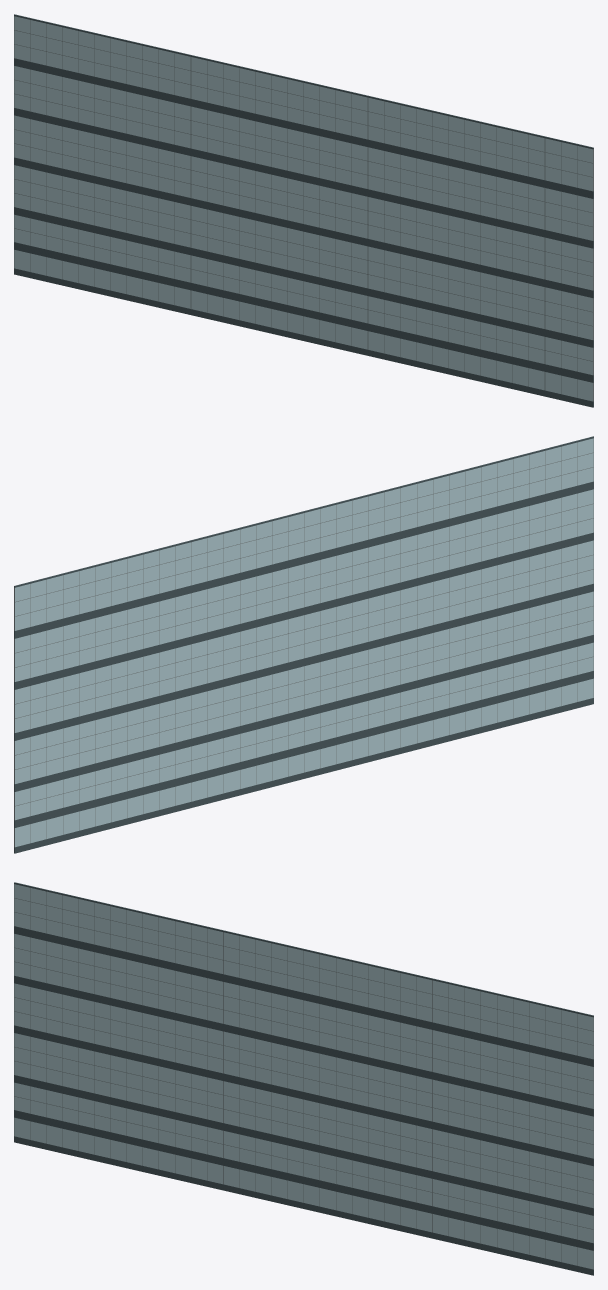
File: G7_Completion_Prior_G7_MiddleExteriorSkin_E09_r001.glb
3 renders of one model, top to bottom at view 1: azimuth 90°, elevation 25°; view 2: azimuth 150°, elevation 25°; view 3: azimuth 270°, elevation 25°, orthographic. The views are drawn at different scales.
Parts seen in each view (by area): view 1: G7_MiddleSkin_E09_glazing, G7_MiddleSkin_E09_spandrel, G7_MiddleSkin_E09_joint; view 2: G7_MiddleSkin_E09_glazing, G7_MiddleSkin_E09_spandrel, G7_MiddleSkin_E09_joint; view 3: G7_MiddleSkin_E09_glazing, G7_MiddleSkin_E09_spandrel, G7_MiddleSkin_E09_joint.
Boxes of the visible parts, x1=… form: G7_MiddleSkin_E09_glazing: x1=14, y1=16, x2=592, y2=401; G7_MiddleSkin_E09_spandrel: x1=14, y1=14, x2=593, y2=407; G7_MiddleSkin_E09_joint: x1=14, y1=16, x2=593, y2=401; G7_MiddleSkin_E09_glazing: x1=15, y1=438, x2=593, y2=847; G7_MiddleSkin_E09_spandrel: x1=14, y1=436, x2=593, y2=853; G7_MiddleSkin_E09_joint: x1=14, y1=438, x2=593, y2=847; G7_MiddleSkin_E09_glazing: x1=14, y1=884, x2=593, y2=1269; G7_MiddleSkin_E09_spandrel: x1=14, y1=882, x2=593, y2=1275; G7_MiddleSkin_E09_joint: x1=14, y1=884, x2=593, y2=1268.
Bounding box in the file's own units: 49.12 × 44.5 × 90.04.
3 materials, 2 textured.
